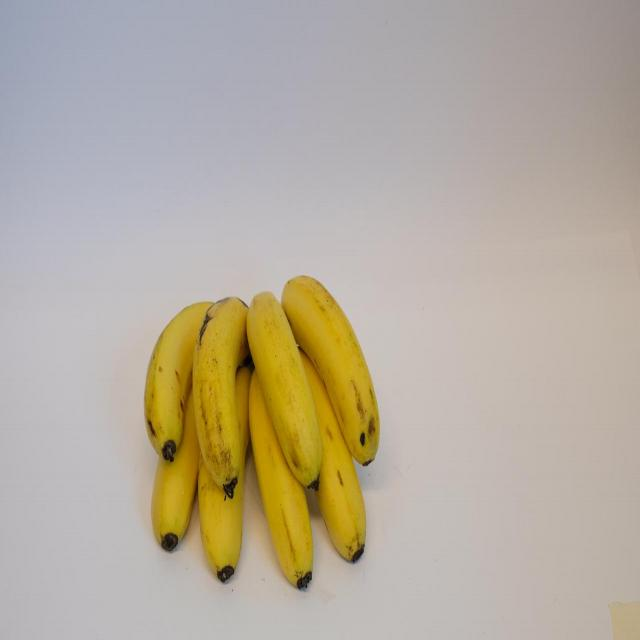banana: (244, 364, 322, 598), (293, 344, 369, 564), (297, 250, 383, 443), (249, 282, 322, 479), (202, 346, 255, 586), (148, 364, 206, 554), (138, 294, 195, 455), (198, 267, 239, 487)
